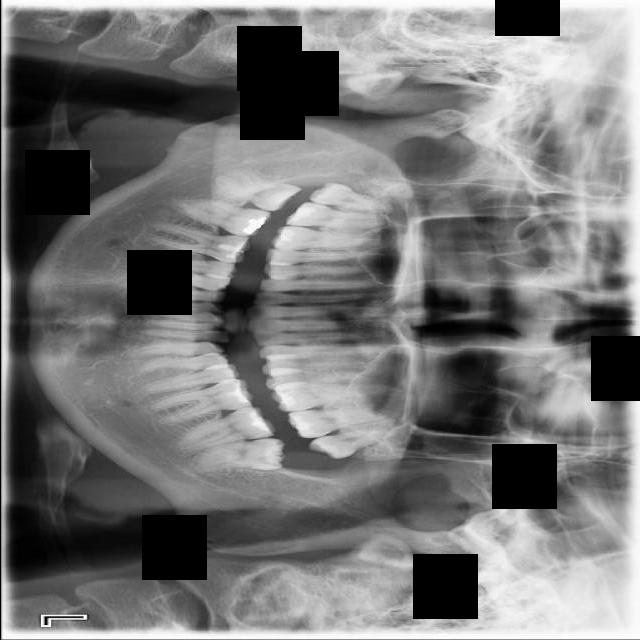3M ESPE Implant: (307, 178, 395, 218)
52: (222, 393, 282, 448), (220, 196, 276, 249), (249, 173, 304, 222), (206, 372, 257, 422), (266, 377, 317, 418), (207, 225, 252, 270), (285, 410, 336, 439), (269, 224, 315, 253), (307, 180, 354, 208), (285, 202, 333, 226)
73: (58, 612, 70, 616)
BioHorizons Implant: (284, 398, 414, 441)
BioLife Implant: (306, 420, 413, 464)
Biomet 3i Implant: (188, 437, 286, 476)
Blue Sky Bio Implant: (169, 401, 277, 456)
Caries: (284, 199, 406, 236)
Implant: (165, 192, 273, 242)
Keystone Dental Implant: (208, 159, 303, 220)
